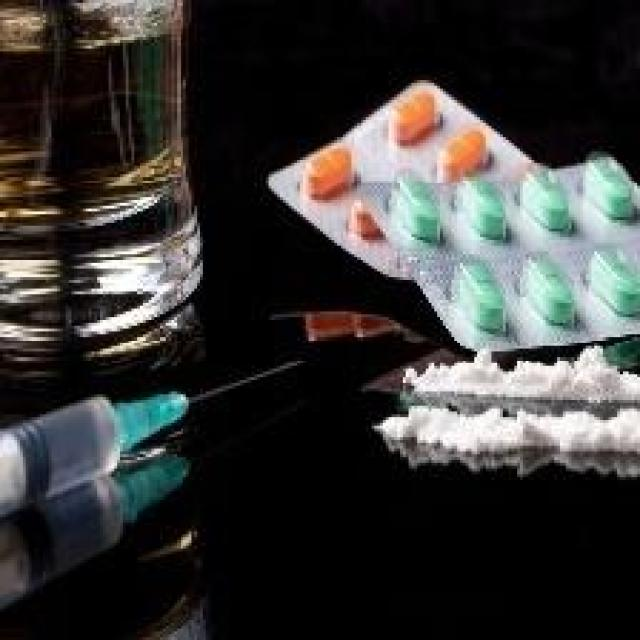Medicine: (257, 71, 640, 546)
